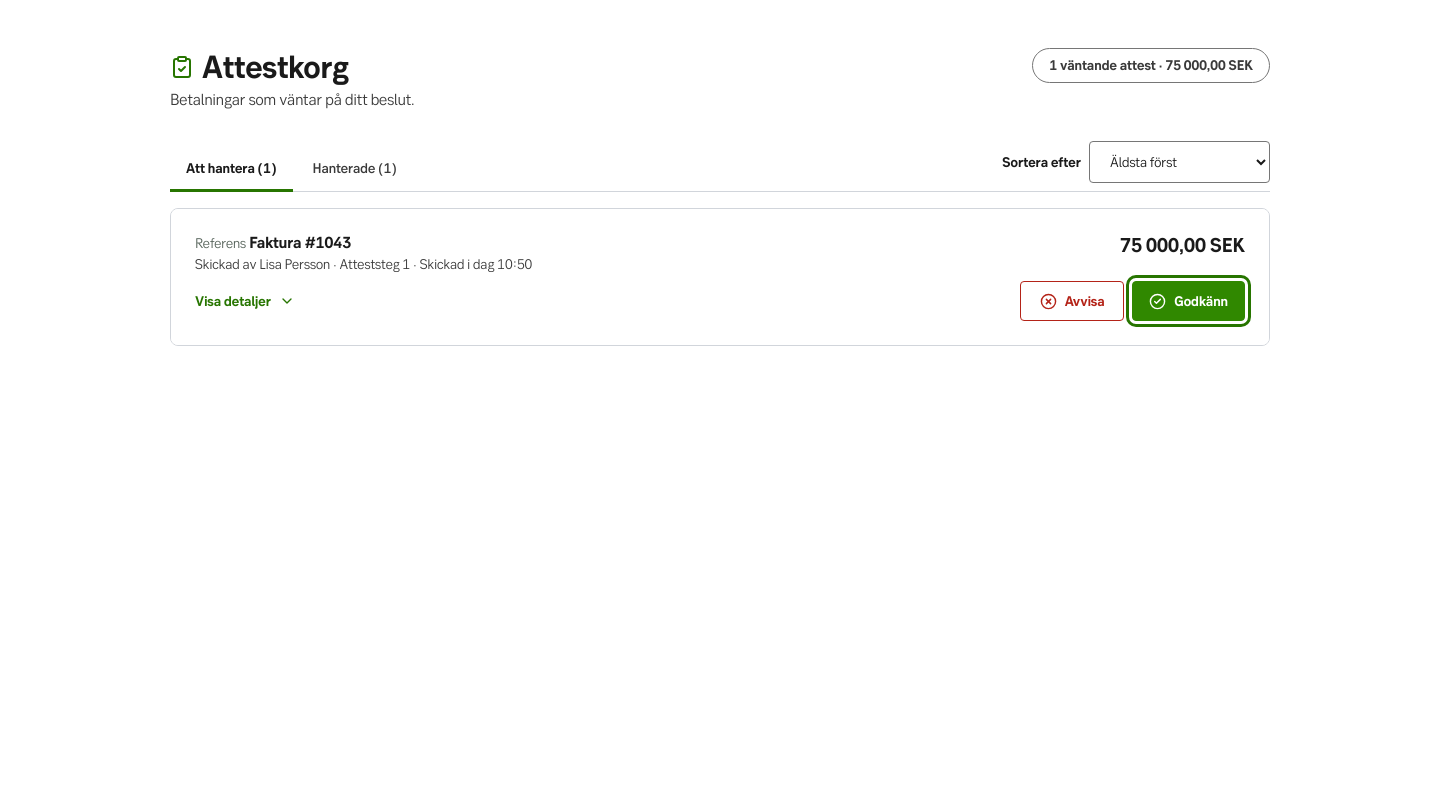
Test: Approval inbox with keyboard and screen reader › closes the confirmation dialog on Escape and returns focus to the button that opened it
Click the button with aria-label "Godkänn betalning" at (1189, 301), box [1132,281,1245,321]
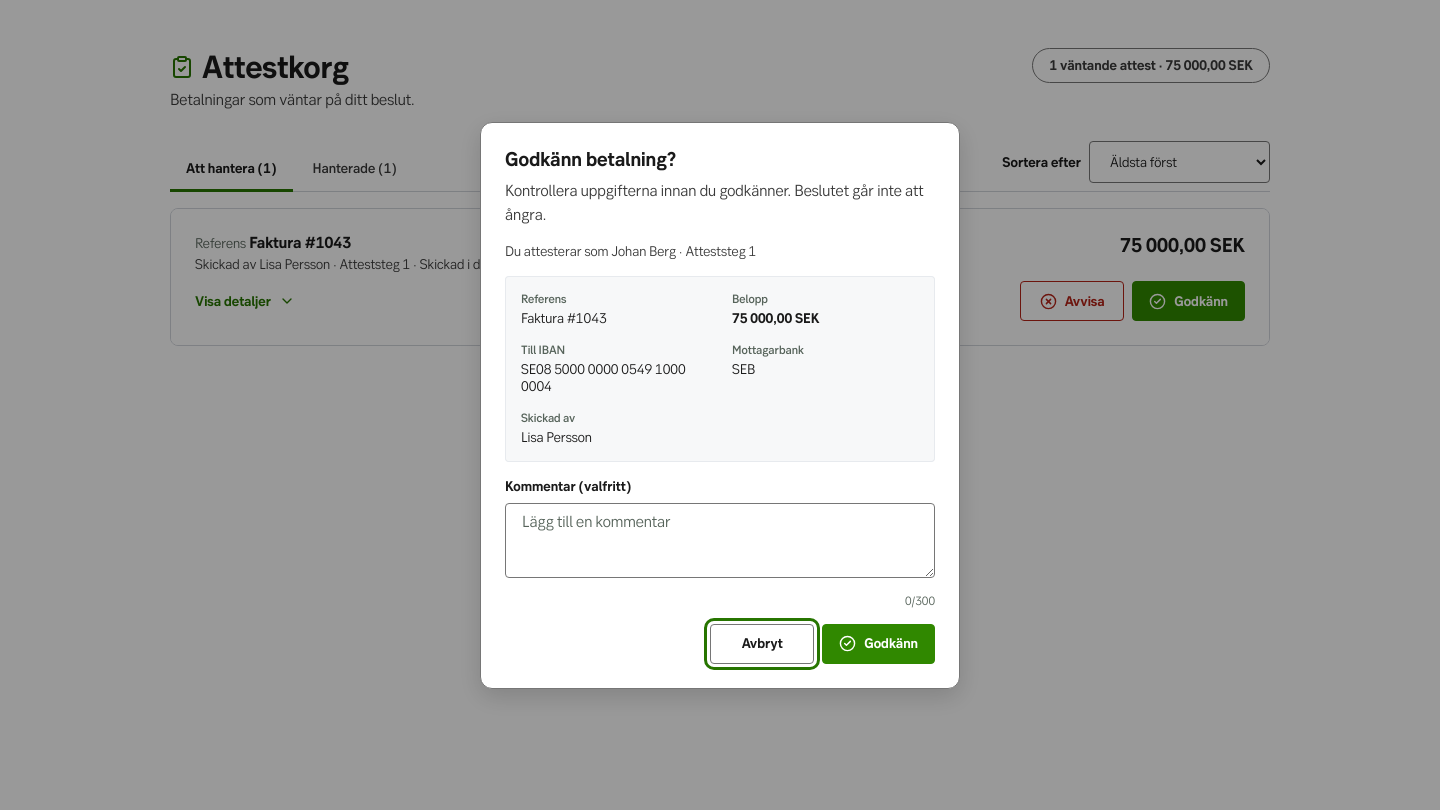
Check: the dialog "Godkänn betalning?" is shown
Press Escape in the dialog "Godkänn betalning?", box [480,122,960,688]
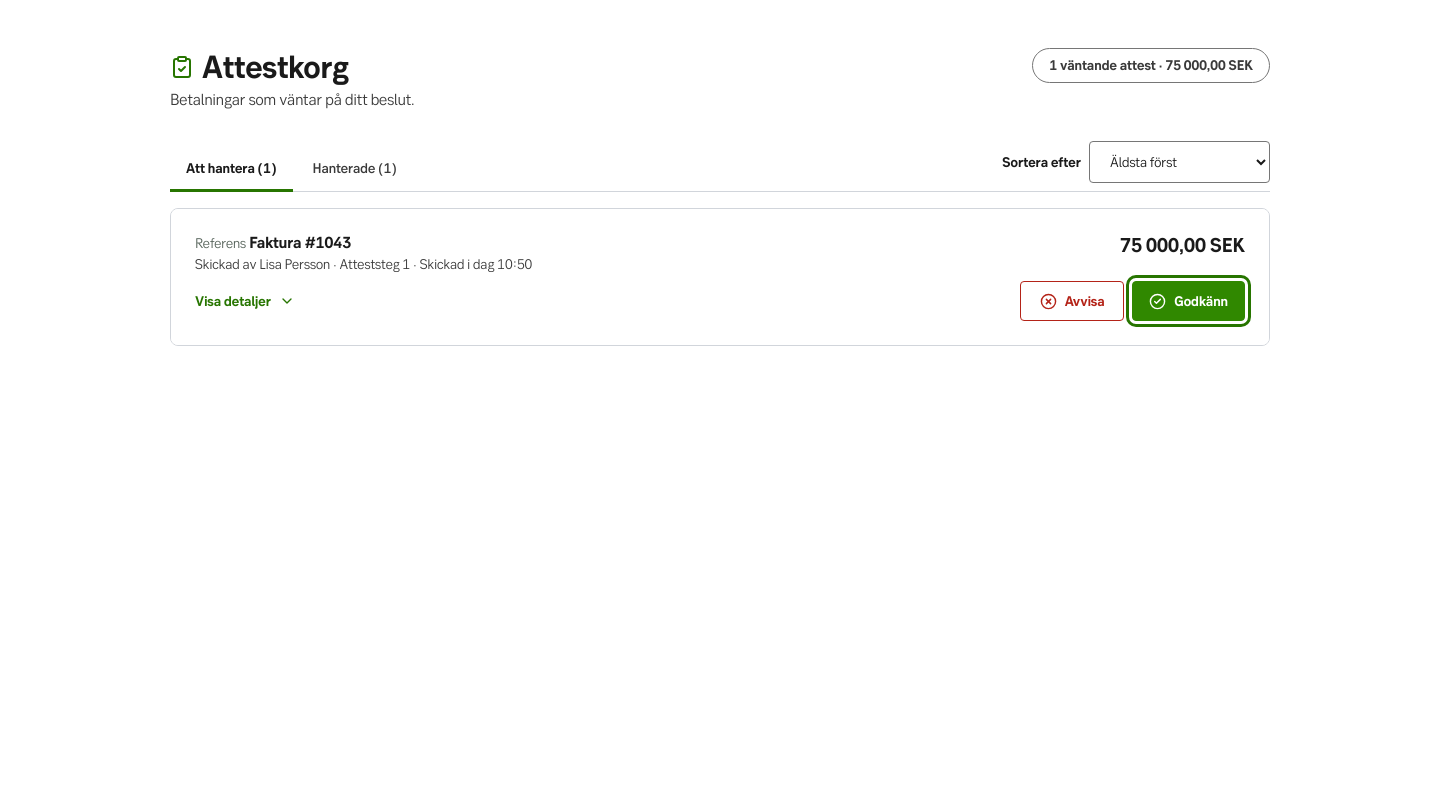
Check: the dialog is gone
